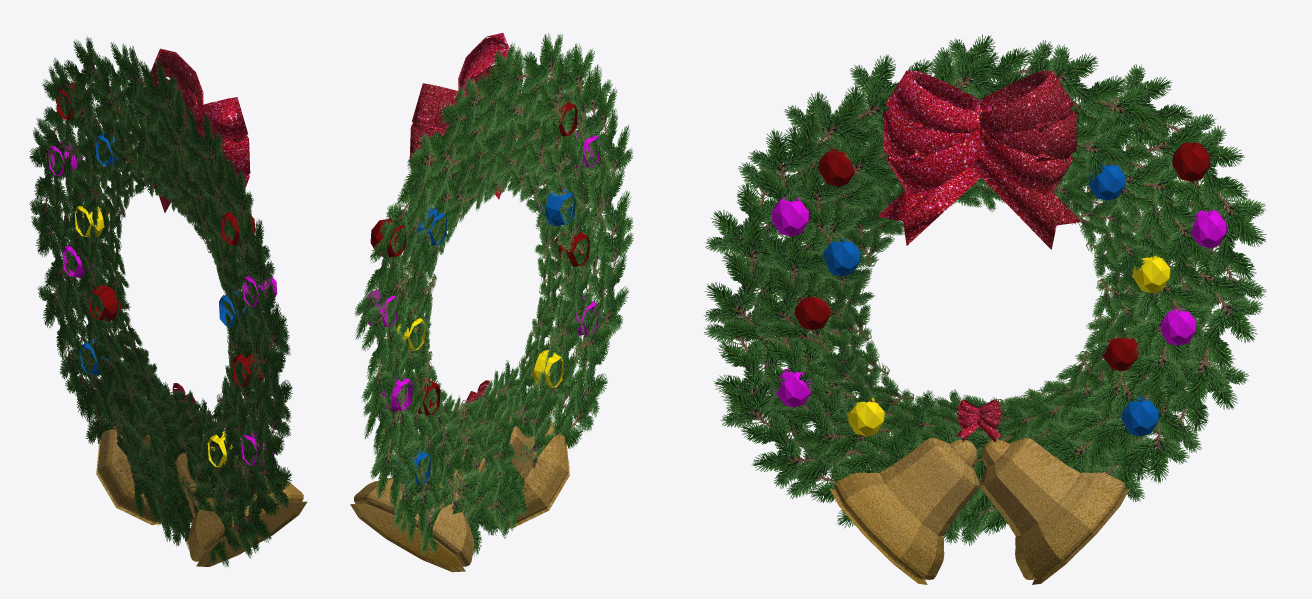
Rendered from garland_round.obj.
3 views of the same model, side by side, from view 1: azimuth 30°, elevation 25°; view 2: azimuth 150°, elevation 25°; view 3: azimuth 270°, elevation 25° (orthographic). The views are drawn at different scales.
Parts seen in each view (by area): view 1: garland; view 2: garland; view 3: garland.
Part boxes in pixels (left/top/right/bottom): garland: left=29, top=36, right=307, bottom=567; garland: left=350, top=33, right=633, bottom=572; garland: left=703, top=34, right=1266, bottom=584.
Size of the model in its own units: 1.81 by 8.02 by 8.2.
